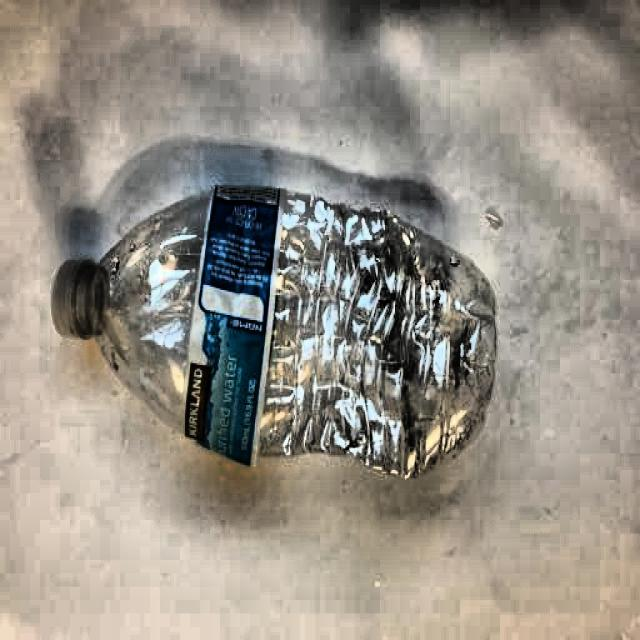plastic: (49, 182, 494, 485)
